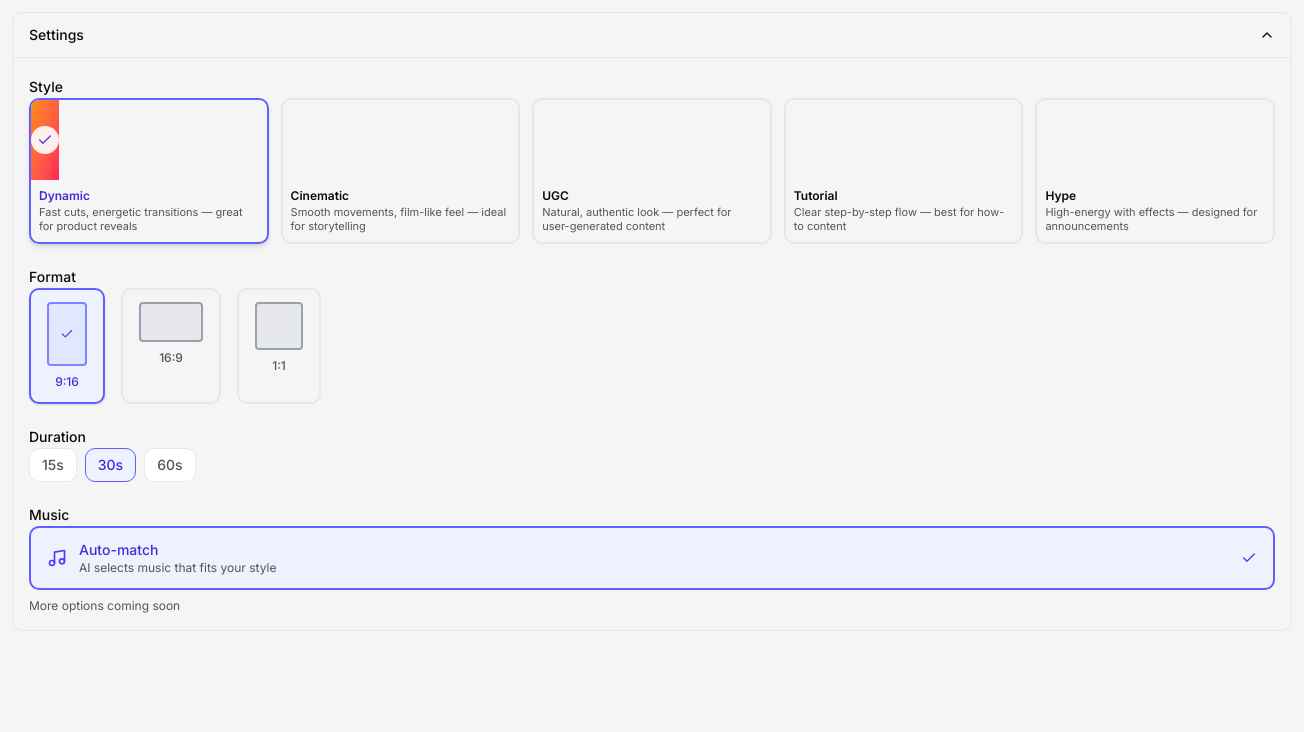
it: MontageSettings › collapses on click to hide options
Click the button "Settings" at [56, 34], box top-left (13, 13), bottom-right (1291, 57)
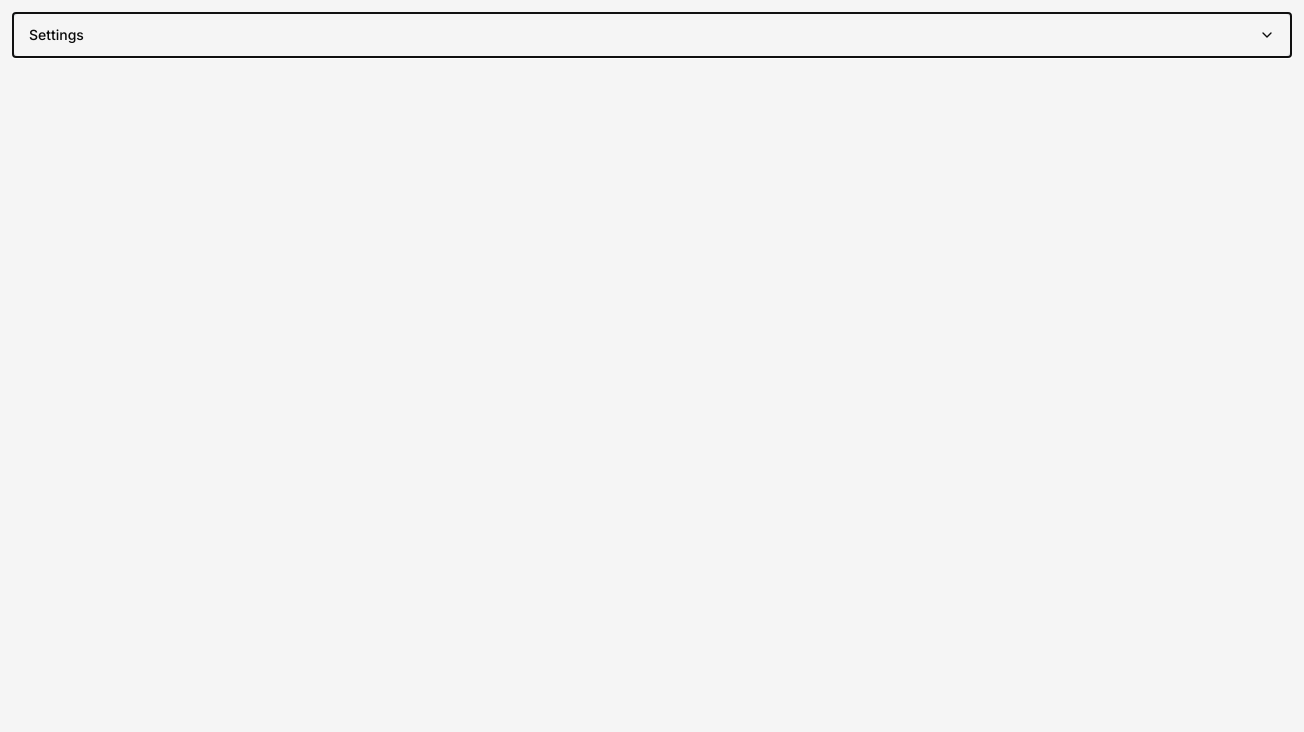
Now the radio button "Dynamic" is gone
Now the radio button "9:16" is gone
